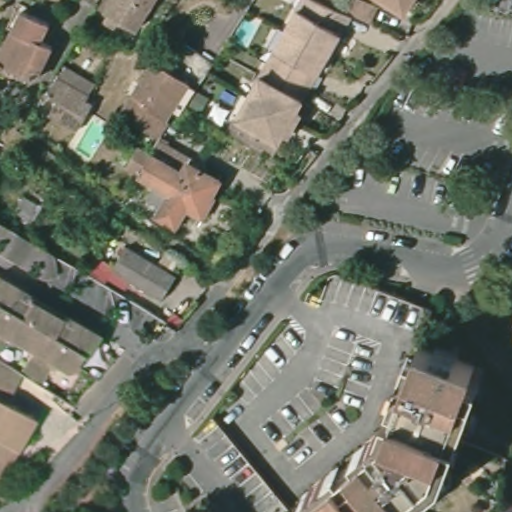pool: (72, 116, 113, 158), (231, 12, 261, 48)
